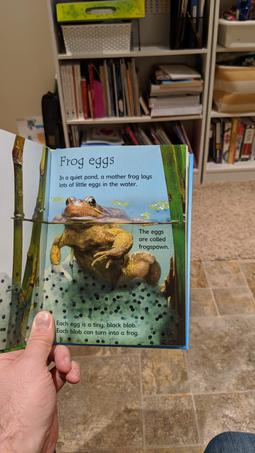text block: (50, 172, 158, 190), (50, 319, 143, 338), (56, 149, 125, 167), (128, 224, 172, 252)
